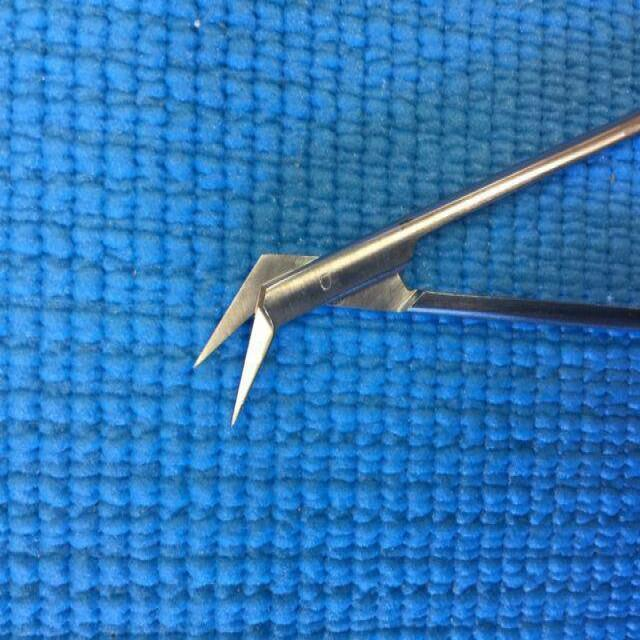Potts: (189, 101, 640, 439)
